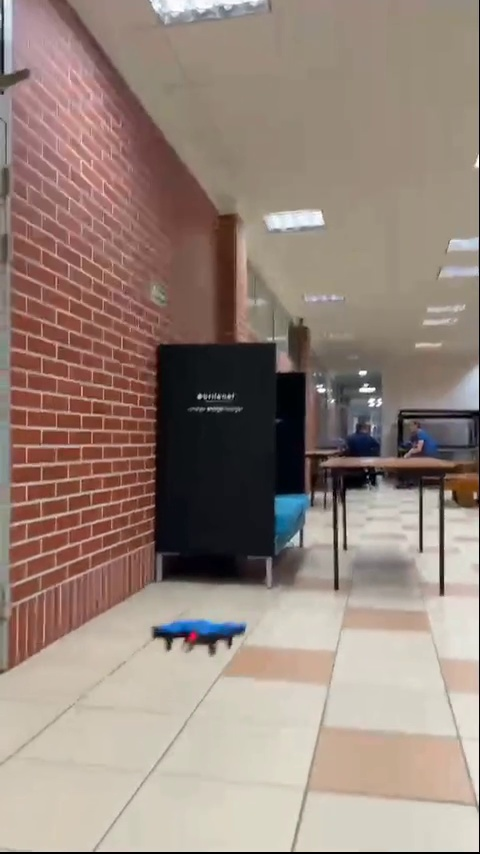drone: (148, 615, 251, 642)
no vest: (396, 415, 441, 465), (344, 419, 380, 463)
